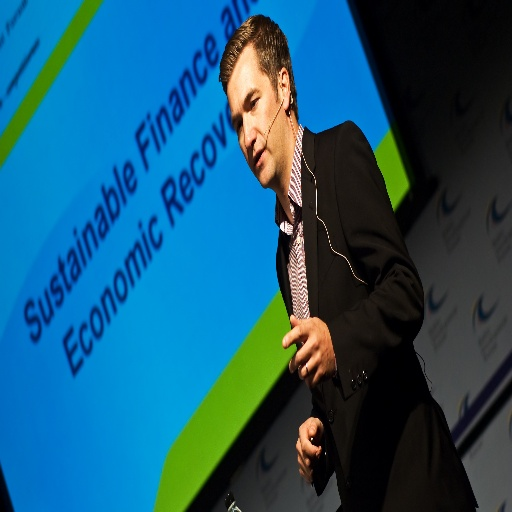hand: (281, 312, 336, 384), (300, 413, 331, 489)
